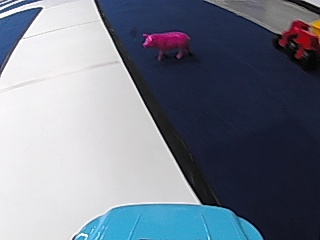pig: (139, 27, 191, 60)
tractor: (275, 16, 320, 70)
